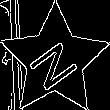N_NE: (24, 29, 85, 92)
